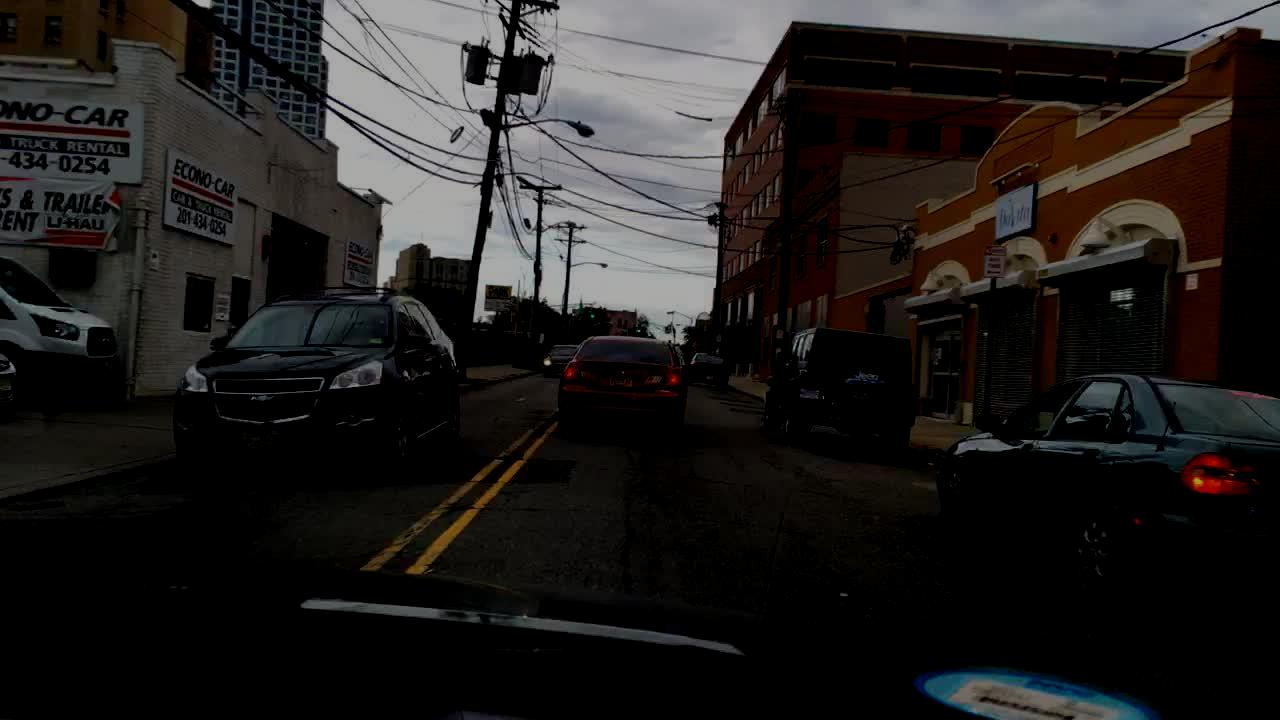chevrolet: (247, 389, 277, 408)
